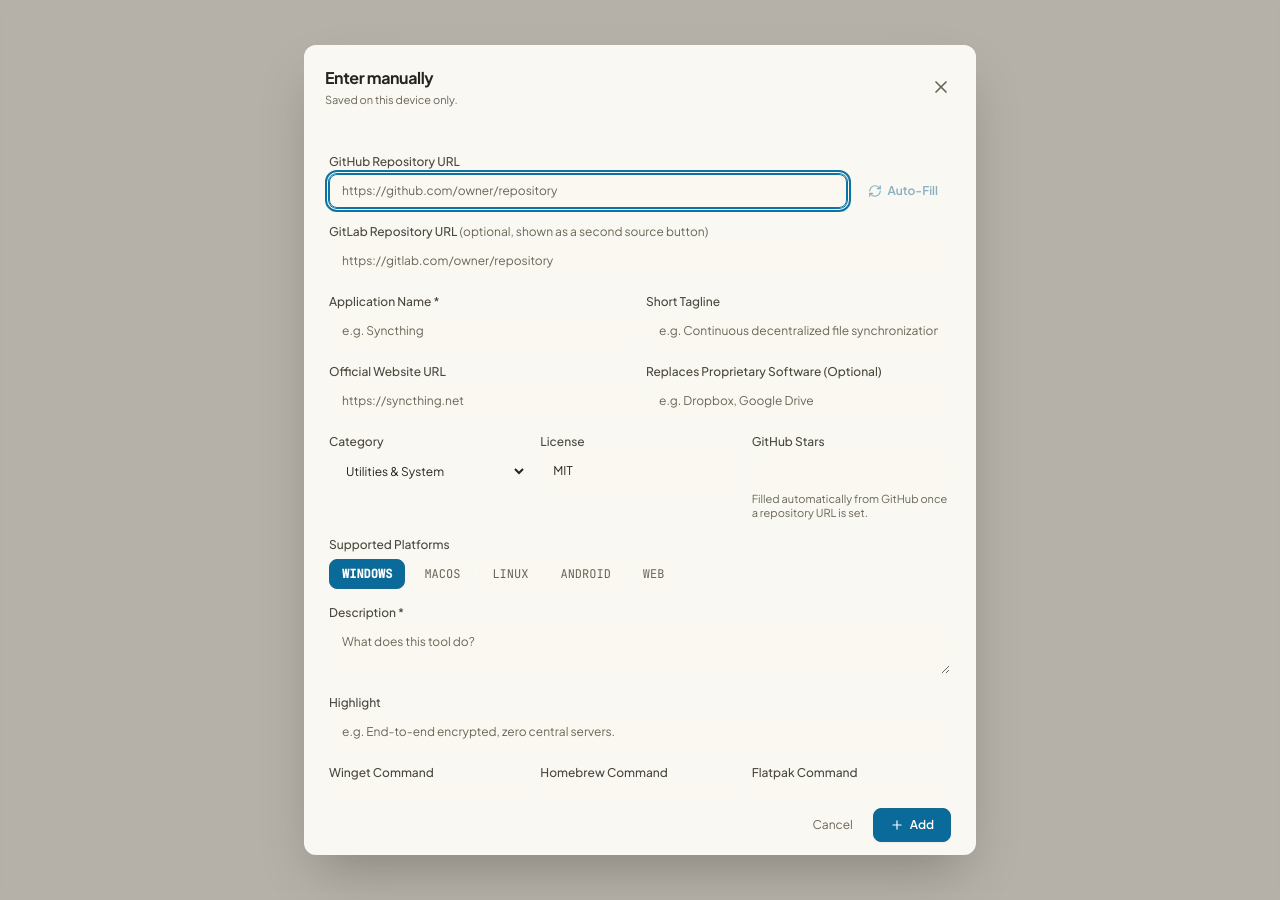
Test: manual add-app: a missing repo URL must never white-screen the app › an invalid URL produces the translated inline error, not a native bubble
Type "My App" into the field labelled "Application Name *" at {"x": 482, "y": 330}, box [329,314,634,348]
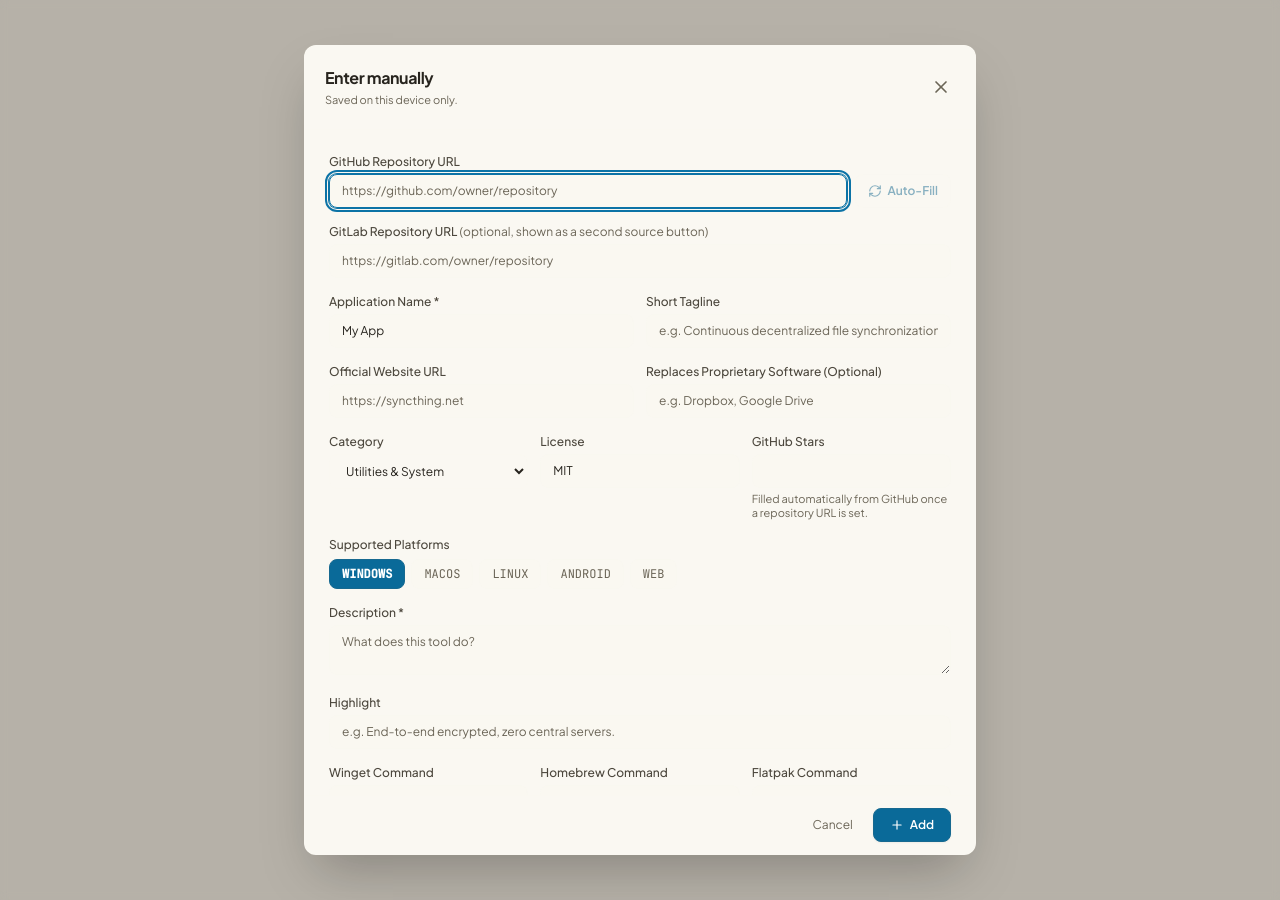
Type "Does things." into the text box labelled "Description *" at {"x": 640, "y": 650}, box [329,625,951,675]
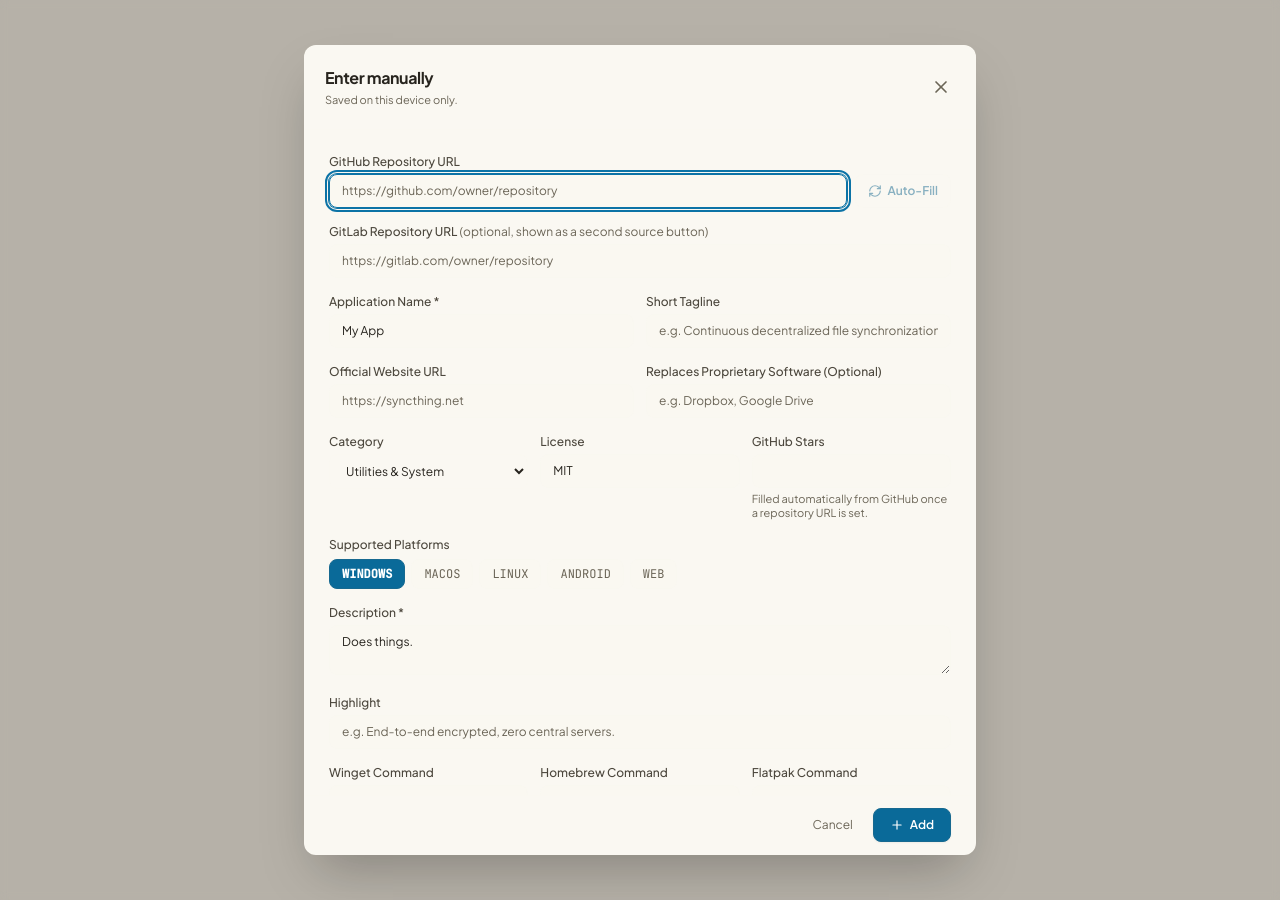
Type "not a url" into the field labelled "GitHub Repository URL" at {"x": 588, "y": 190}, box [329,174,847,208]
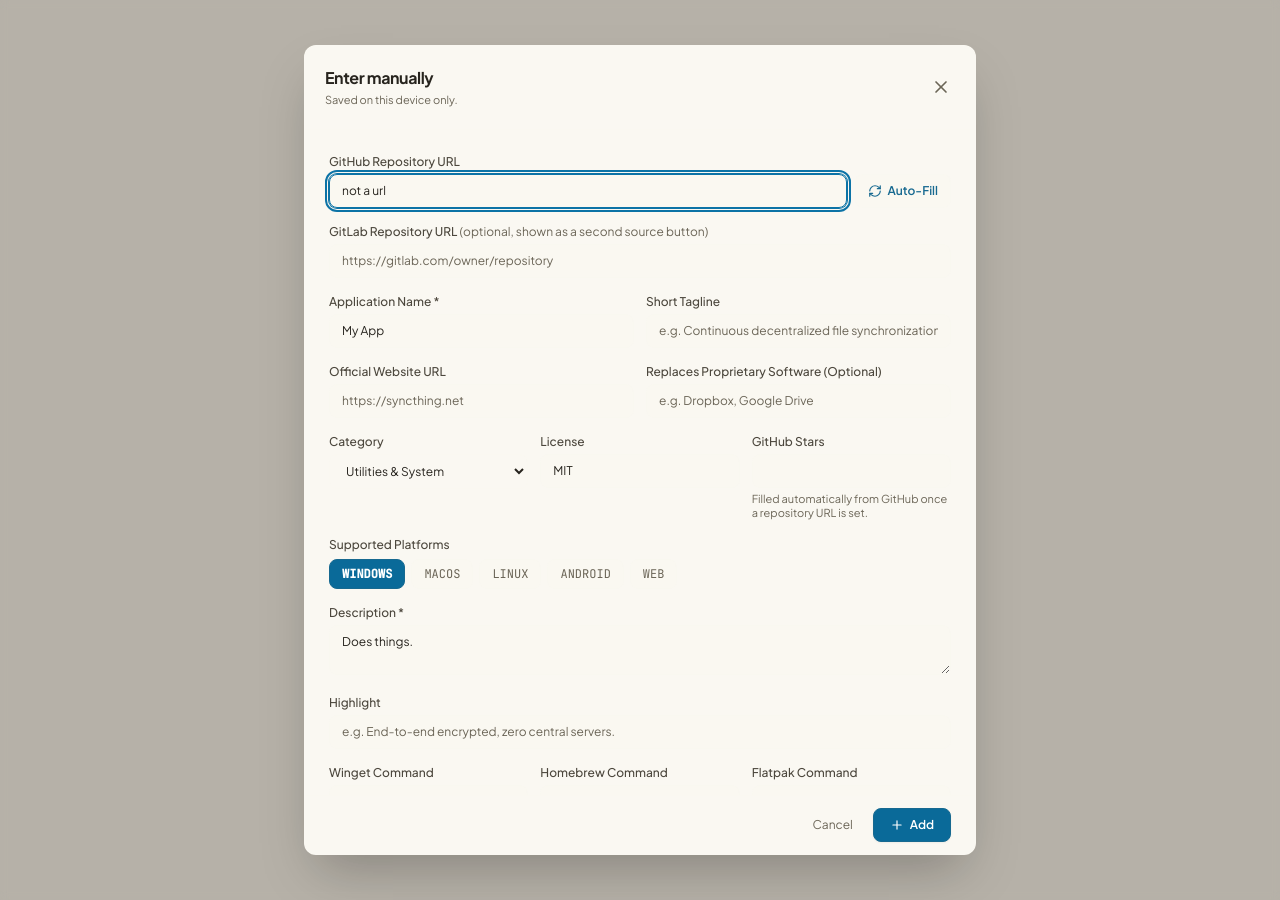
Click the submit button at {"x": 912, "y": 825}, box [873,808,951,842]
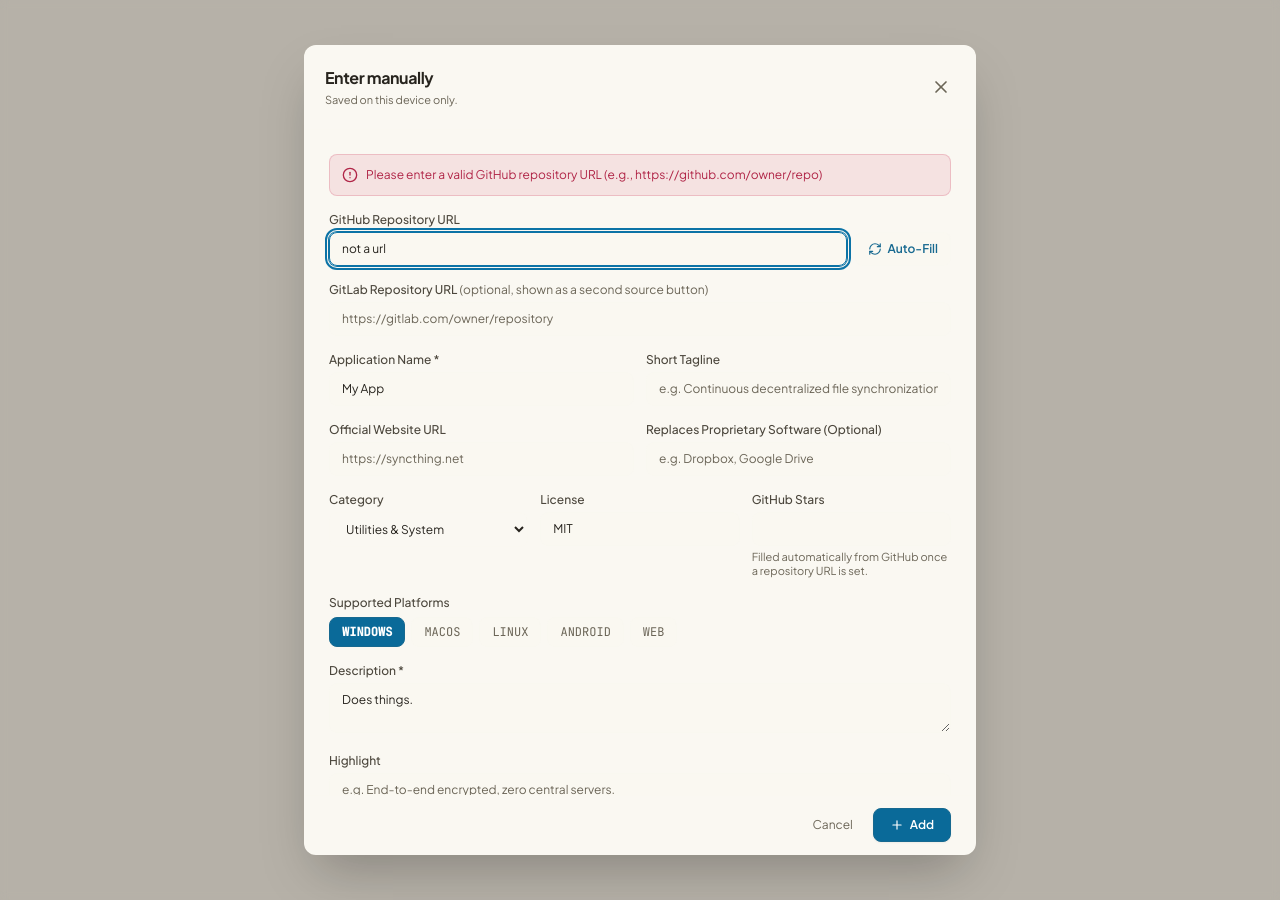
Expected: the message shows "valid GitHub repository URL", [366,166,822,182]
